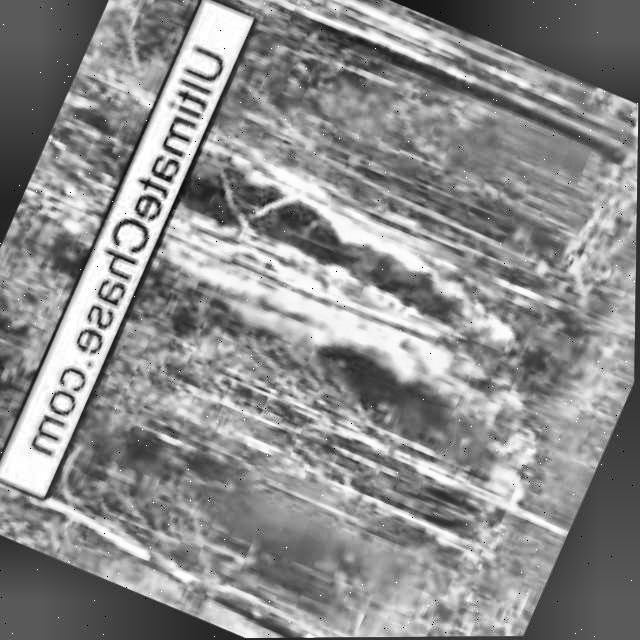Fire: (135, 121, 540, 439), (434, 366, 580, 525), (14, 142, 118, 246)
